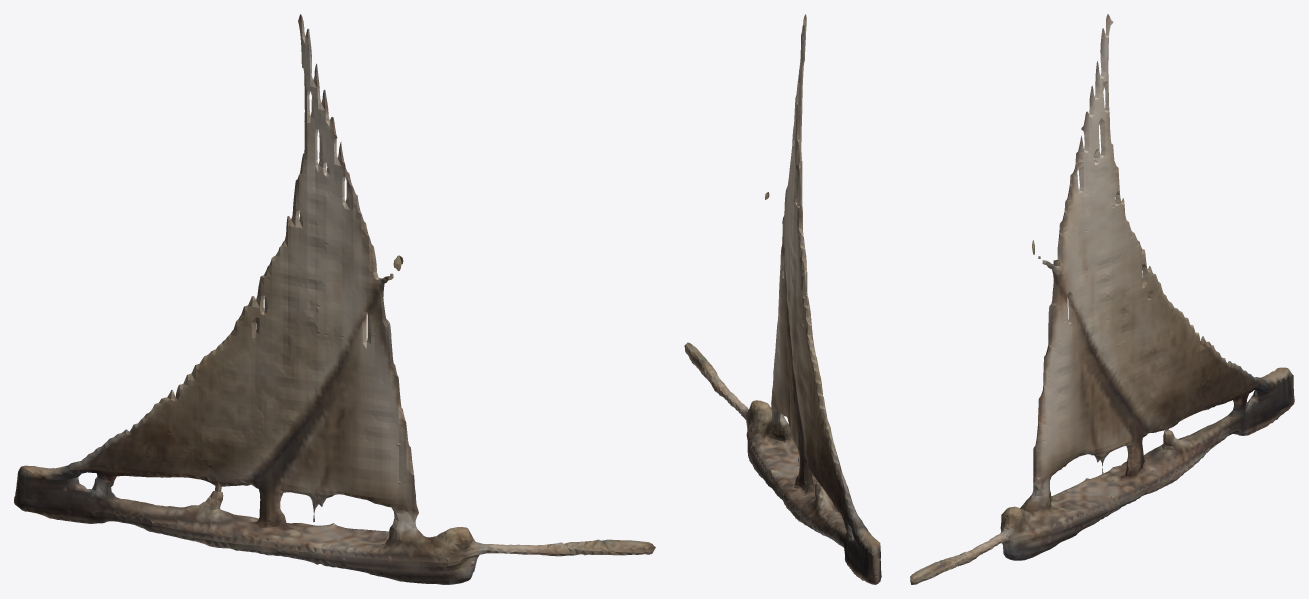
The model's file is velero.glb.
3 renders of one model, left to right at view 1: azimuth 30°, elevation 25°; view 2: azimuth 150°, elevation 25°; view 3: azimuth 270°, elevation 25°, orthographic. The views are drawn at different scales.
Visible parts, largest first — view 1: world; view 2: world; view 3: world.
Boxes of the visible parts, bbox=[...] form: world: bbox=[14, 14, 655, 584]; world: bbox=[684, 14, 881, 584]; world: bbox=[910, 14, 1294, 584].
Size of the model in its own units: 1.38 by 1.71 by 1.19.
